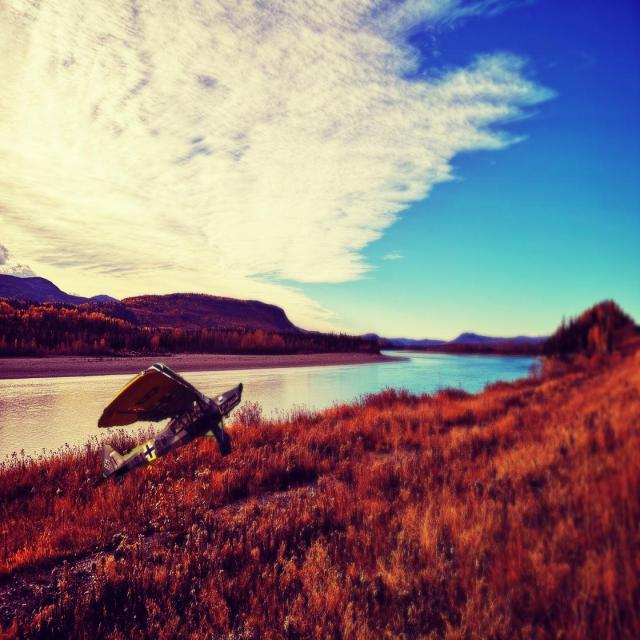airplane: (91, 361, 243, 488)
